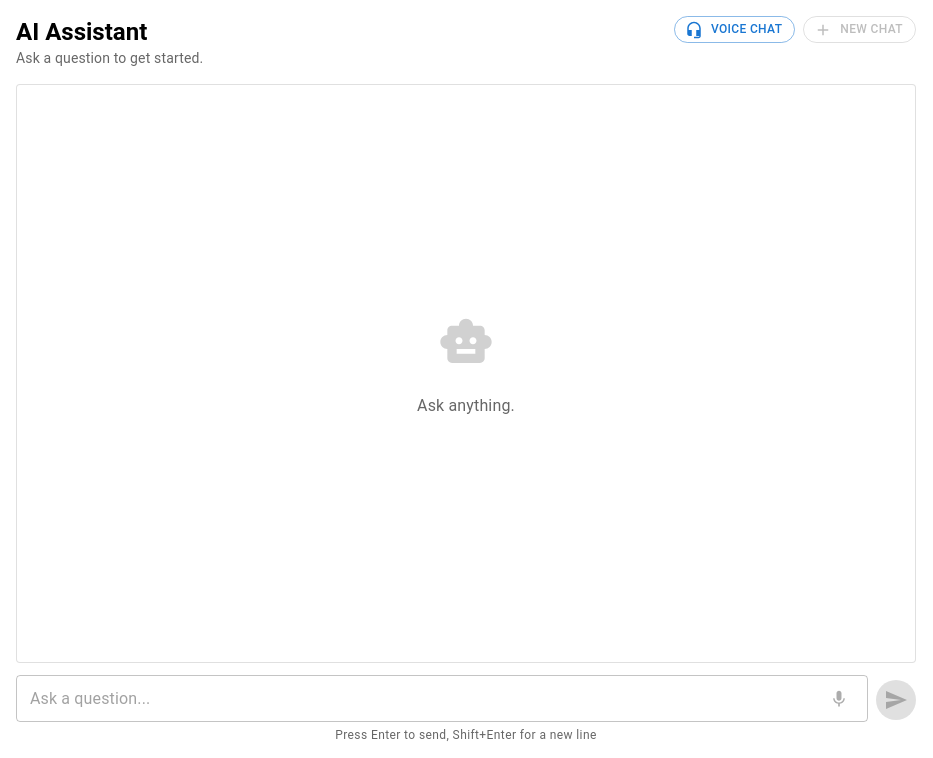
Test: AiChatPage voice chat › leaves voice mode (instead of staying lit with a dead mic) when start fails
What coordinates should you click on to do the following:
click the button "Voice Chat"
I would click on:
 (735, 30)
Its box is top-left (674, 16), bottom-right (795, 43).
Wait 500 ms
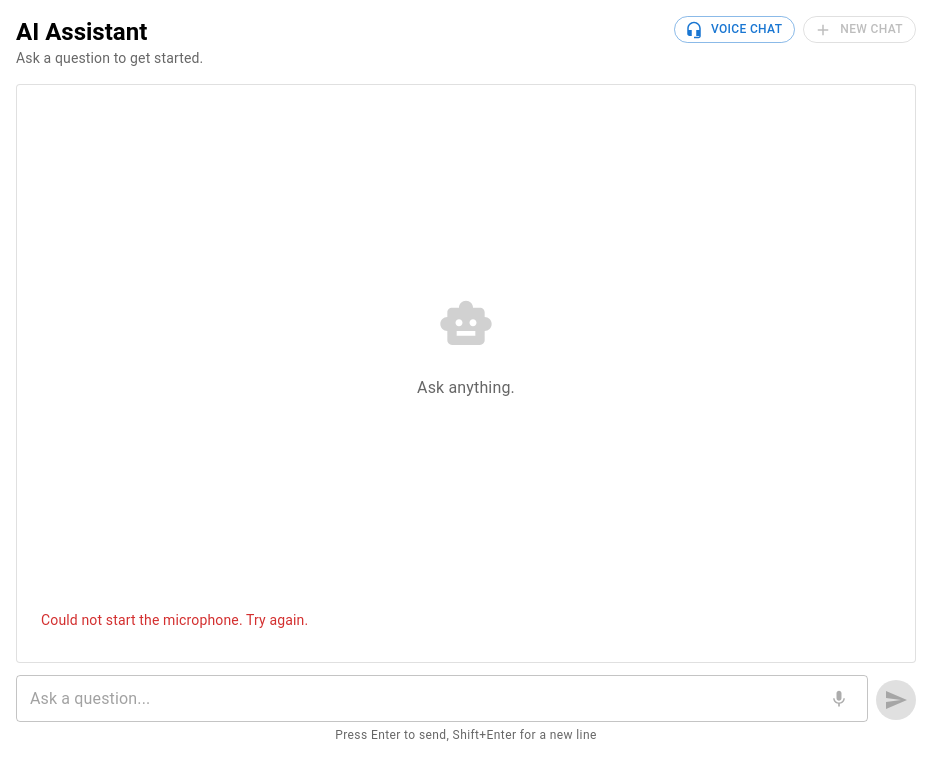
Expected: the text "Could not start the microphone. Try again." is shown, top-left (41, 612), bottom-right (308, 628)
